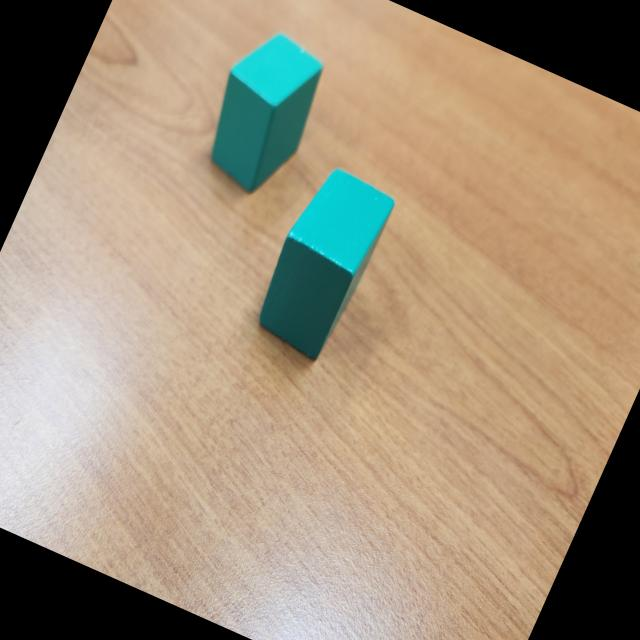green: (246, 158, 400, 364), (188, 20, 338, 204)
